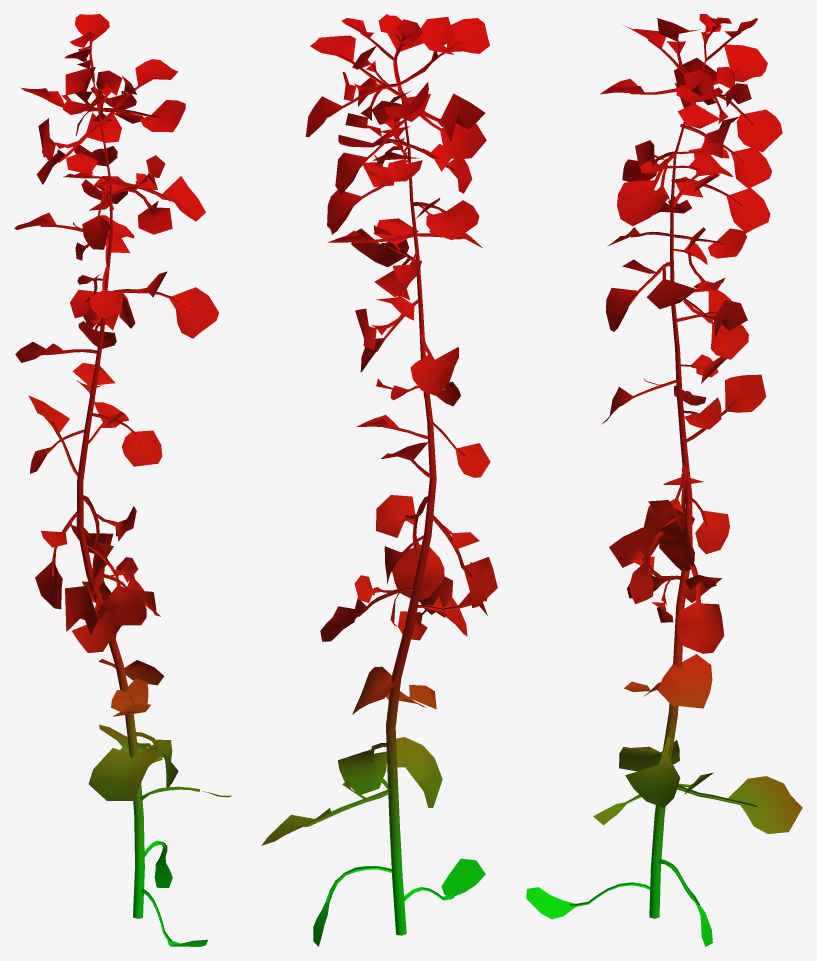
File: Var1_LOD0.fbx
The picture shows the model from 3 angles, left to right: view 1: azimuth 30°, elevation 25°; view 2: azimuth 150°, elevation 25°; view 3: azimuth 270°, elevation 25°; orthographic projection. The views are drawn at different scales.
Parts seen in each view (by area): view 1: _72d5_Var1_LOD0; view 2: _72d5_Var1_LOD0; view 3: _72d5_Var1_LOD0.
Part boxes in pixels (x1,y1,x2,y2): _72d5_Var1_LOD0: (14,14,231,946); _72d5_Var1_LOD0: (261,14,497,946); _72d5_Var1_LOD0: (526,14,802,946).
Size of the model in its own units: 19.57 by 97.61 by 27.3.
